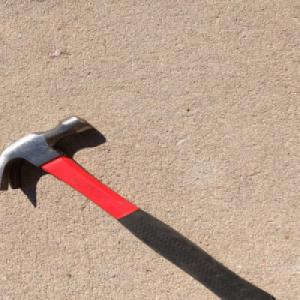Hammer: (0, 113, 278, 300)
